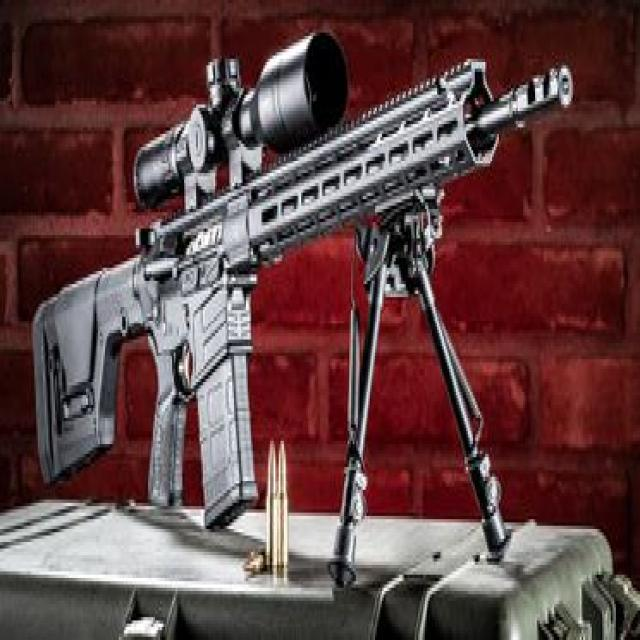Rifle: (31, 33, 573, 529)
